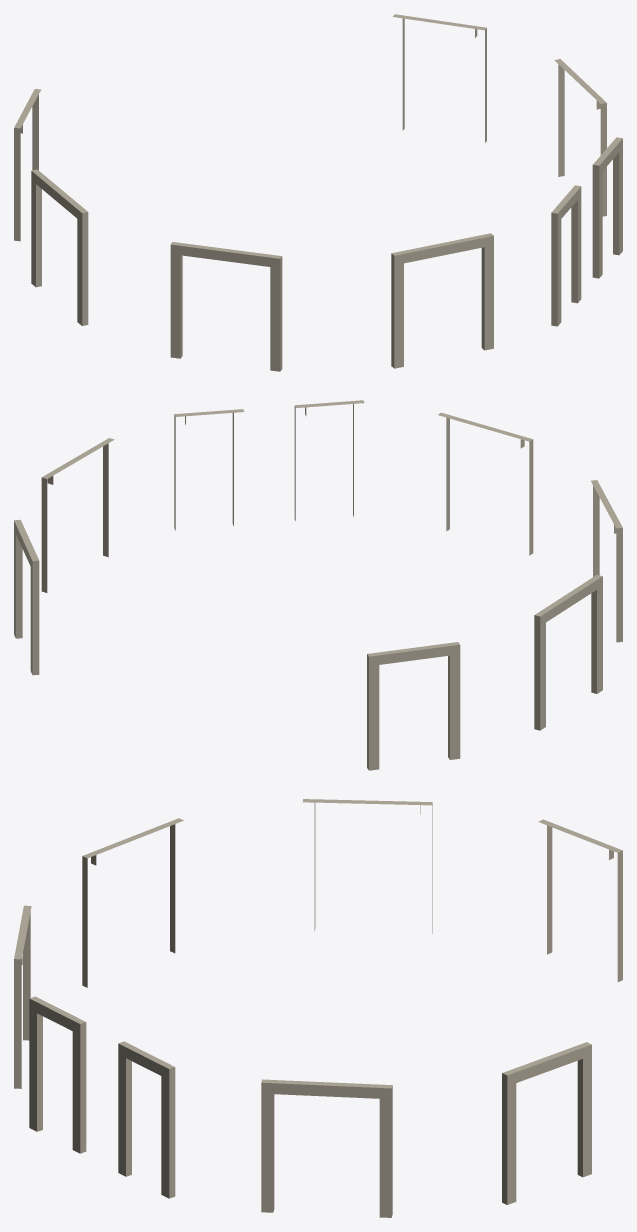
The picture shows the model from 3 angles, top to bottom: view 1: azimuth 30°, elevation 25°; view 2: azimuth 150°, elevation 25°; view 3: azimuth 270°, elevation 25°; orthographic projection. The views are drawn at different scales.
Visible parts, largest first — view 1: detail; view 2: detail; view 3: detail.
Part boxes in pixels (bbox=[...]): detail: bbox=[14, 14, 622, 371]; detail: bbox=[14, 400, 622, 770]; detail: bbox=[14, 799, 622, 1217].
Bounding box in the file's own units: 11.38 × 2.38 × 10.12.
